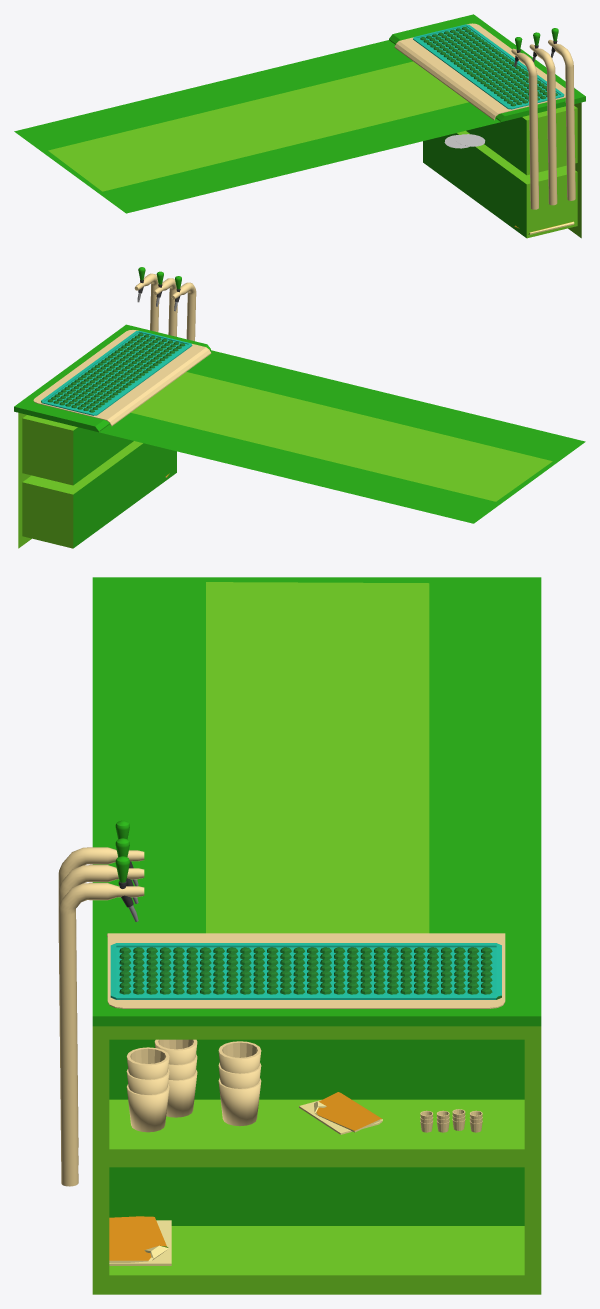
File: Table_green.FBX
3 views of the same model, one above another, from view 1: azimuth 30°, elevation 25°; view 2: azimuth 150°, elevation 25°; view 3: azimuth 270°, elevation 25° (orthographic). The views are drawn at different scales.
Visible parts, largest first — view 1: stol, bigpodstavka, skatert, kran.000, kran.002, kran.001, Podstavkapodkrygky.002; view 2: stol, bigpodstavka, skatert, kran.001, kran.002, kran.000; view 3: stol, bigpodstavka, skatert, kran.002, Cylinder.002, stakan, Plane.001, Cylinder.001, tryapka, kran.000, kran.001.
Part boxes in pixels (x1=…): stol: x1=14, y1=14, x2=585, y2=238; bigpodstavka: x1=413, y1=24, x2=564, y2=109; skatert: x1=394, y1=23, x2=565, y2=120; kran.000: x1=529, y1=32, x2=557, y2=205; kran.002: x1=548, y1=28, x2=575, y2=200; kran.001: x1=511, y1=37, x2=538, y2=209; Podstavkapodkrygky.002: x1=455, y1=134, x2=485, y2=146; stol: x1=14, y1=324, x2=585, y2=548; bigpodstavka: x1=41, y1=330, x2=192, y2=415; skatert: x1=33, y1=330, x2=211, y2=426; kran.001: x1=171, y1=276, x2=196, y2=341; kran.002: x1=134, y1=267, x2=159, y2=332; kran.000: x1=153, y1=271, x2=177, y2=336; stol: x1=92, y1=577, x2=541, y2=1294; bigpodstavka: x1=110, y1=943, x2=501, y2=999; skatert: x1=107, y1=933, x2=505, y2=1008; kran.002: x1=58, y1=856, x2=144, y2=1186; Cylinder.002: x1=218, y1=1041, x2=261, y2=1126; stakan: x1=126, y1=1047, x2=169, y2=1132; Plane.001: x1=109, y1=1216, x2=171, y2=1265; Cylinder.001: x1=154, y1=1039, x2=197, y2=1117; tryapka: x1=299, y1=1092, x2=382, y2=1134; kran.000: x1=58, y1=838, x2=144, y2=1164; kran.001: x1=58, y1=820, x2=144, y2=1147.
Size of the model in its own units: 7065 by 3074 by 3214.
